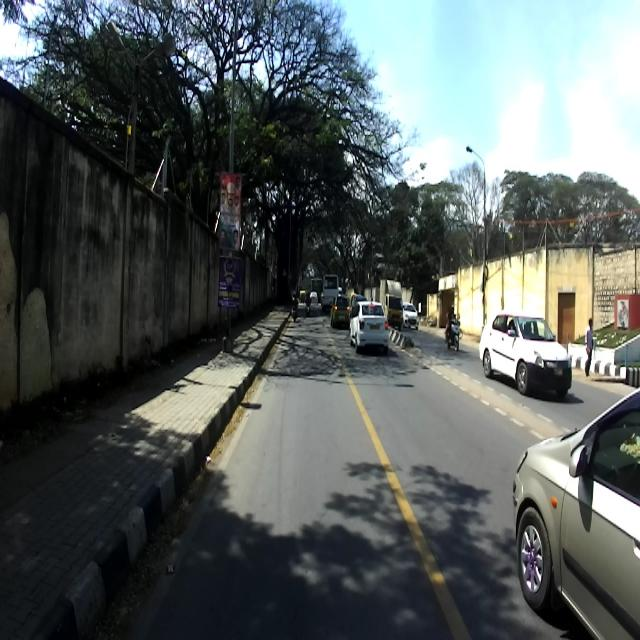car: (512, 383, 640, 639), (479, 310, 571, 396), (348, 299, 391, 354), (402, 301, 418, 330)
